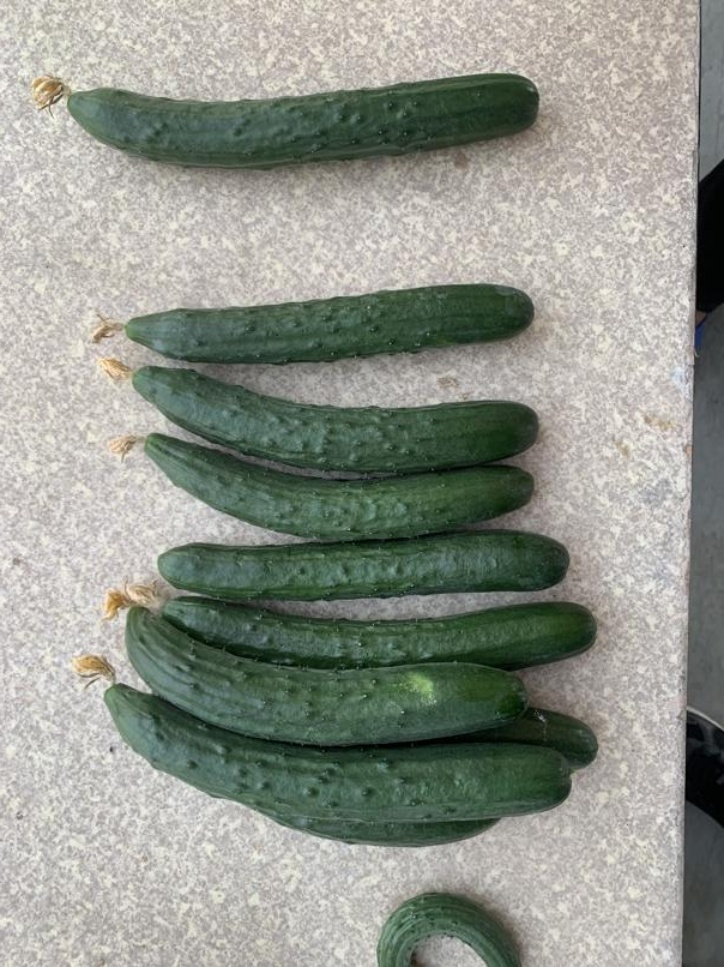mature: (75, 675, 578, 826), (127, 598, 536, 745), (65, 65, 547, 169), (132, 356, 539, 472), (134, 428, 542, 540), (88, 271, 534, 362), (158, 588, 598, 673), (153, 526, 570, 599)
